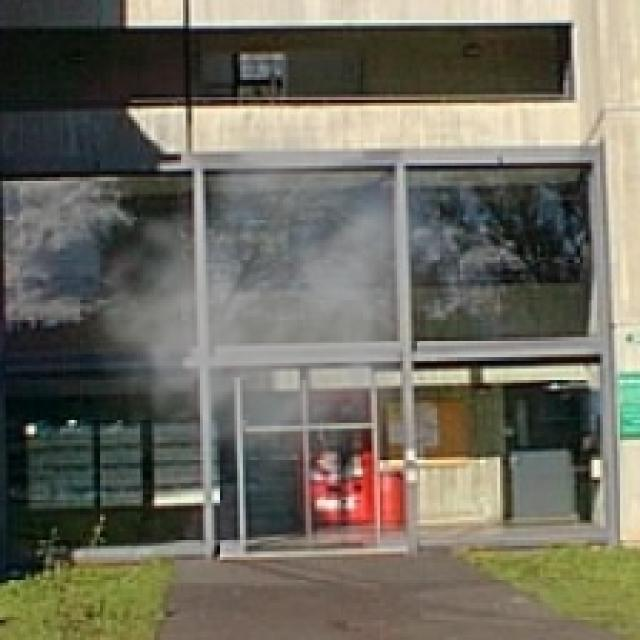Smoke: (57, 109, 440, 512)
